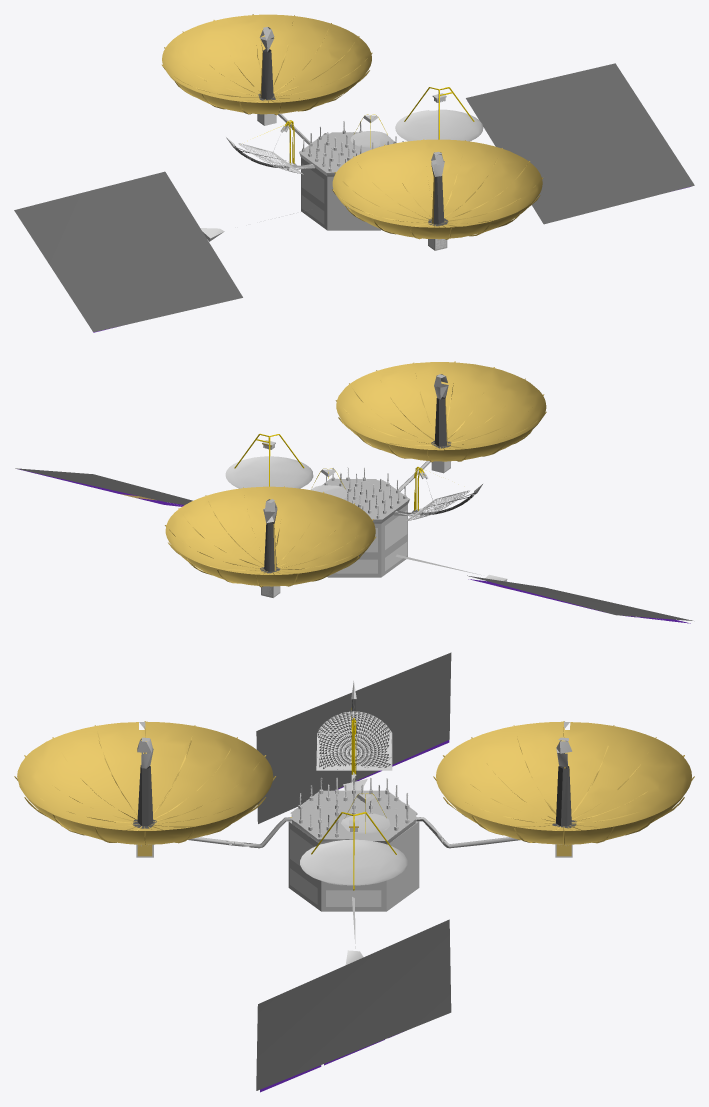
3 views of the same model, one above another, from view 1: azimuth 30°, elevation 25°; view 2: azimuth 150°, elevation 25°; view 3: azimuth 270°, elevation 25° (orthographic). The views are drawn at different scales.
Visible parts, largest first — view 1: Fake; view 2: Fake; view 3: Fake.
Boxes of the visible parts, box(x1,y1,x2,y2) form: Fake: box(14, 14, 694, 332); Fake: box(15, 361, 692, 623); Fake: box(14, 652, 694, 1092).
Size of the model in its own units: 94.44 by 21.22 by 75.43.
Materials: 13 (2 with a texture image).
